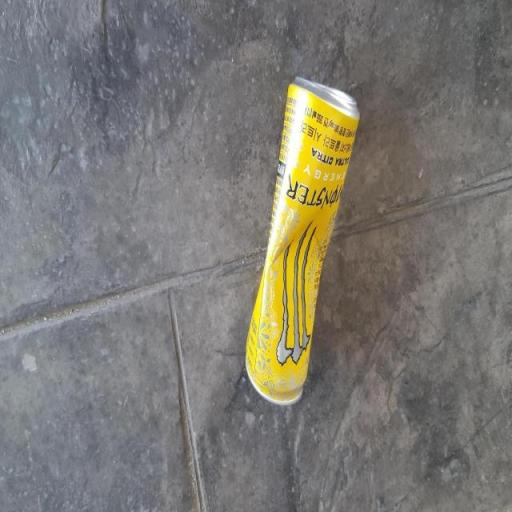metal: (230, 57, 369, 438)
